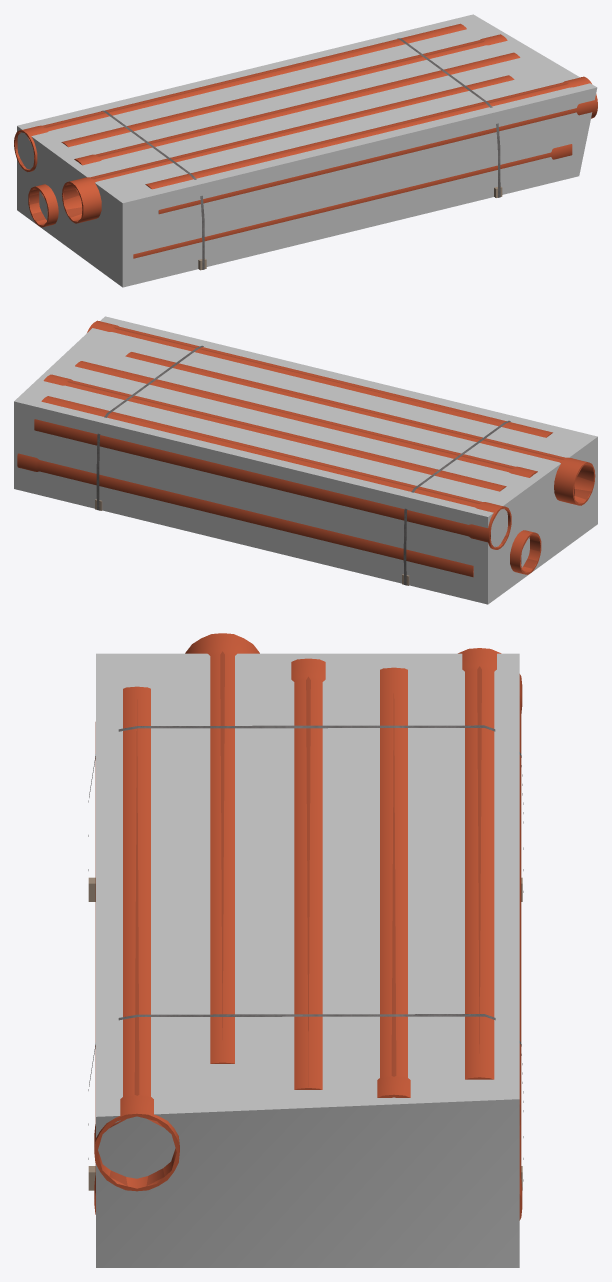
File: ind_pipes_small_stack.DAE
3 renders of one model, top to bottom at view 1: azimuth 30°, elevation 25°; view 2: azimuth 150°, elevation 25°; view 3: azimuth 270°, elevation 25°, orthographic. The views are drawn at different scales.
Parts seen in each view (by area): view 1: Colmesh-1, ind_pipes_small_stack300, ind_pipes_small_stack50, ind_pipes_small_stack200; view 2: Colmesh-1, ind_pipes_small_stack300, ind_pipes_small_stack50, ind_pipes_small_stack200; view 3: Colmesh-1, ind_pipes_small_stack300, ind_pipes_small_stack50, ind_pipes_small_stack200.
Boxes of the visible parts, x1=… form: Colmesh-1: x1=17, y1=14, x2=597, y2=287; ind_pipes_small_stack300: x1=14, y1=23, x2=597, y2=269; ind_pipes_small_stack50: x1=15, y1=33, x2=568, y2=270; ind_pipes_small_stack200: x1=14, y1=130, x2=83, y2=226; Colmesh-1: x1=14, y1=316, x2=597, y2=604; ind_pipes_small_stack300: x1=17, y1=320, x2=595, y2=585; ind_pipes_small_stack50: x1=67, y1=327, x2=593, y2=585; ind_pipes_small_stack200: x1=489, y1=462, x2=595, y2=573; Colmesh-1: x1=96, y1=653, x2=519, y2=1267; ind_pipes_small_stack300: x1=88, y1=633, x2=523, y2=1220; ind_pipes_small_stack50: x1=88, y1=651, x2=522, y2=1190; ind_pipes_small_stack200: x1=94, y1=1062, x2=522, y2=1215.
Bounding box in the file's own units: 393 × 151 × 65.76.
